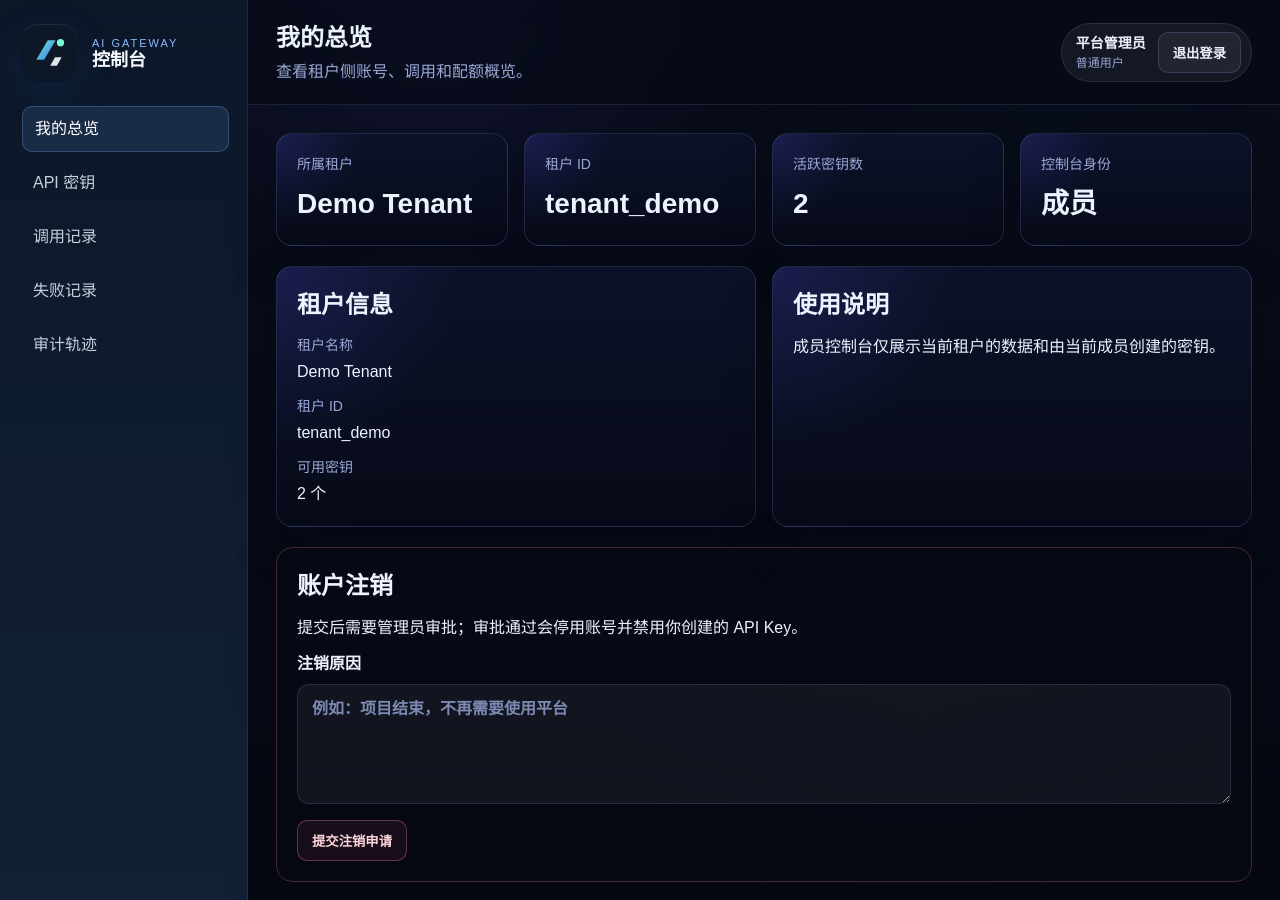
Test: 控制台路由 › member 总览页支持提交账户注销申请
In the text box labelled "注销原因": (764, 744) [297,684,1231,804], type "项目结束，不再使用"
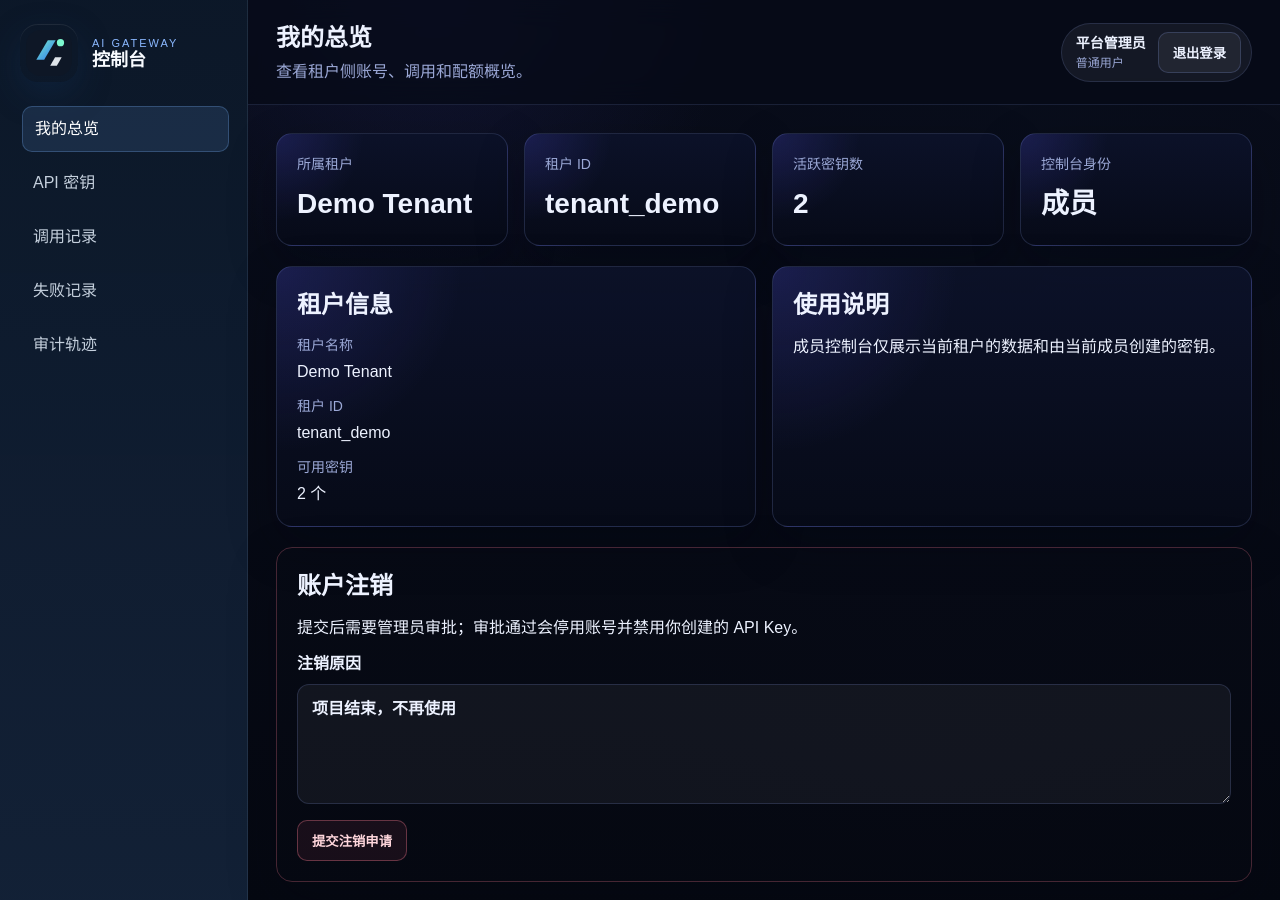
Click the button "提交注销申请": (352, 840) [297,820,407,861]
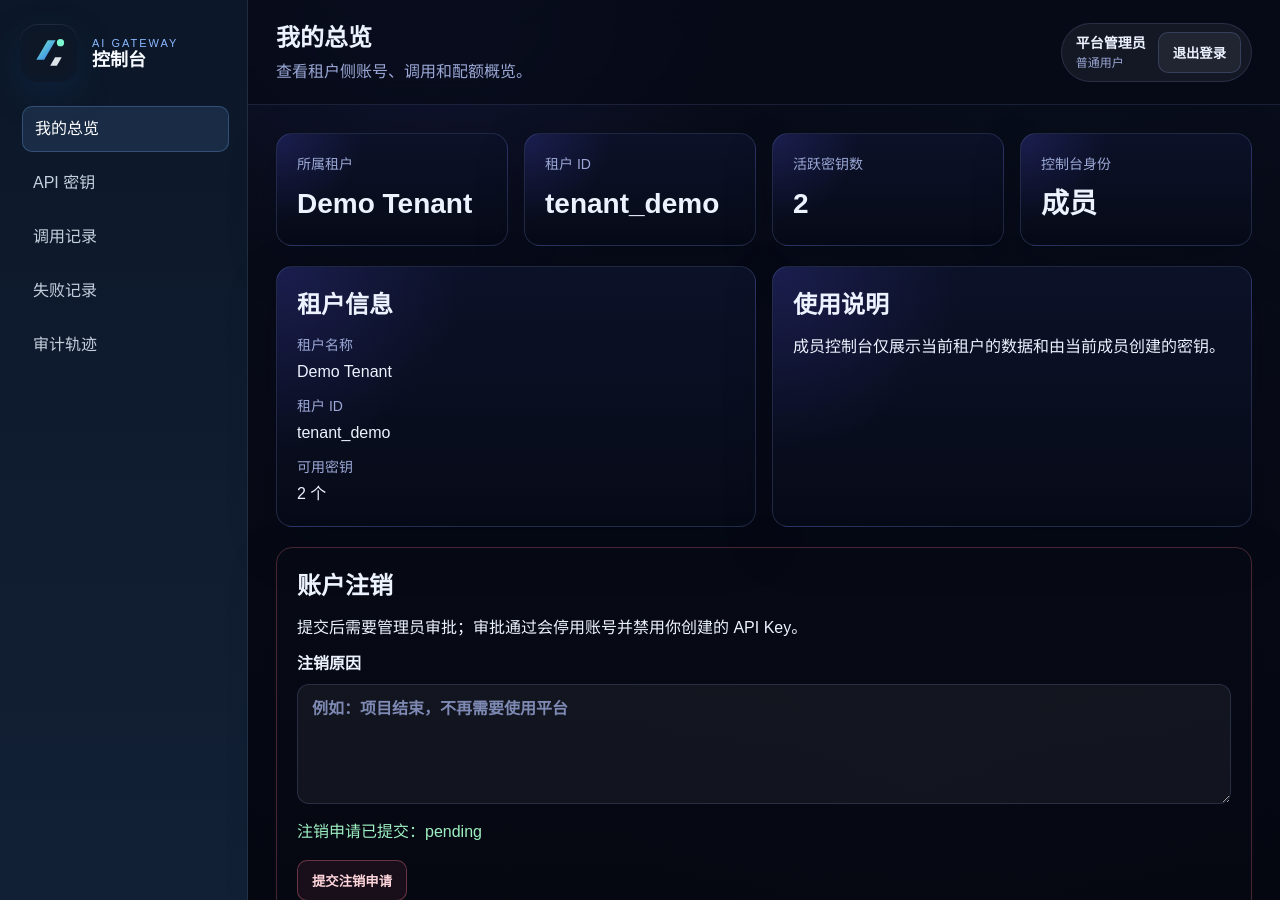
expect the text "注销申请已提交：pending" is shown: met, box [297,823,482,840]
